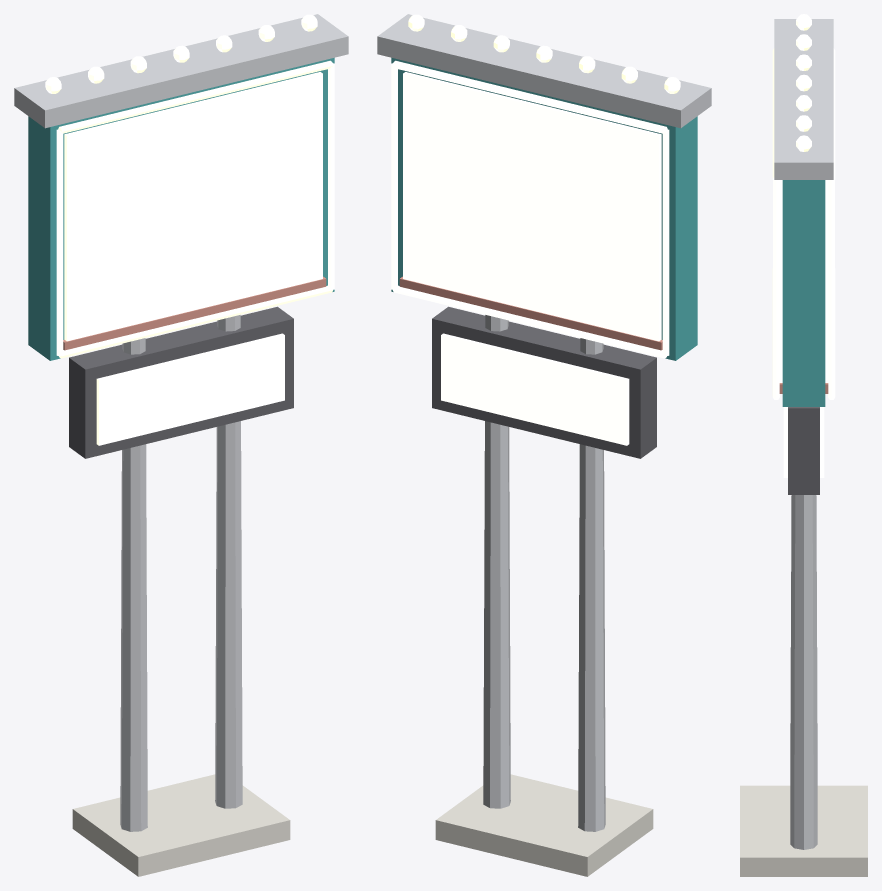
Rendered from retro-diner-and-roadside-motel-roadside-pylon-sign-cee4a2f6__37368.glb.
3 views of the same model, side by side, from view 1: azimuth 30°, elevation 25°; view 2: azimuth 150°, elevation 25°; view 3: azimuth 270°, elevation 25° (orthographic). The views are drawn at different scales.
Visible parts, largest first — view 1: roadside-pylon-sign-neon, roadside-pylon-sign-chrome, roadside-pylon-sign-cream, roadside-pylon-sign-asphalt, roadside-pylon-sign-turquoise, roadside-pylon-sign-coral; view 2: roadside-pylon-sign-neon, roadside-pylon-sign-chrome, roadside-pylon-sign-cream, roadside-pylon-sign-asphalt, roadside-pylon-sign-turquoise, roadside-pylon-sign-coral; view 3: roadside-pylon-sign-chrome, roadside-pylon-sign-cream, roadside-pylon-sign-turquoise, roadside-pylon-sign-neon, roadside-pylon-sign-asphalt.
Part boxes in pixels (x1,y1,x2,y2): roadside-pylon-sign-neon: [45, 14, 334, 445]; roadside-pylon-sign-chrome: [14, 14, 348, 831]; roadside-pylon-sign-cream: [72, 774, 290, 876]; roadside-pylon-sign-asphalt: [69, 306, 293, 458]; roadside-pylon-sign-turquoise: [28, 57, 334, 360]; roadside-pylon-sign-coral: [63, 276, 326, 350]; roadside-pylon-sign-neon: [391, 14, 680, 445]; roadside-pylon-sign-chrome: [377, 14, 711, 831]; roadside-pylon-sign-cream: [435, 774, 653, 876]; roadside-pylon-sign-asphalt: [432, 306, 656, 458]; roadside-pylon-sign-turquoise: [391, 57, 697, 360]; roadside-pylon-sign-coral: [399, 276, 662, 350]; roadside-pylon-sign-chrome: [774, 19, 833, 849]; roadside-pylon-sign-cream: [740, 785, 867, 876]; roadside-pylon-sign-turquoise: [782, 180, 825, 406]; roadside-pylon-sign-neon: [772, 14, 835, 477]; roadside-pylon-sign-asphalt: [788, 407, 819, 494].
Bounding box in the file's own units: 3.2 × 7.94 × 1.2.
